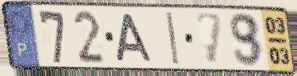2: (72, 8, 109, 65)
7: (194, 11, 225, 67), (37, 8, 66, 65)
9: (227, 11, 266, 68)
A: (114, 12, 154, 63)
I: (164, 11, 181, 67)
